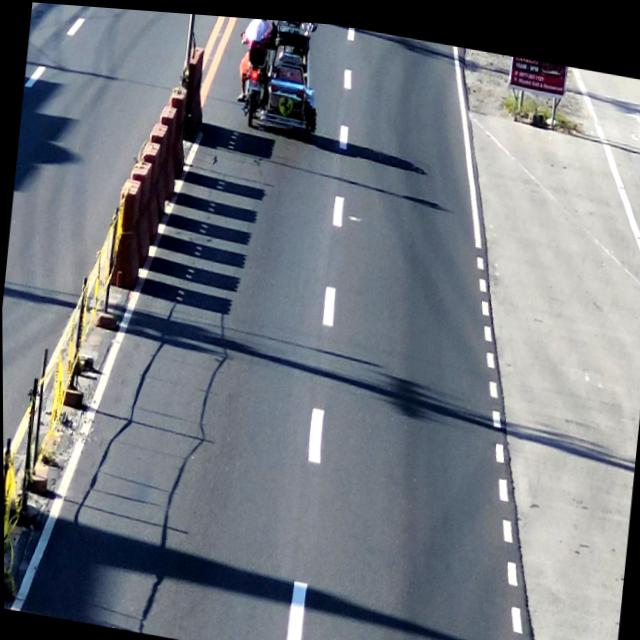Tricycle: (236, 14, 324, 139)
